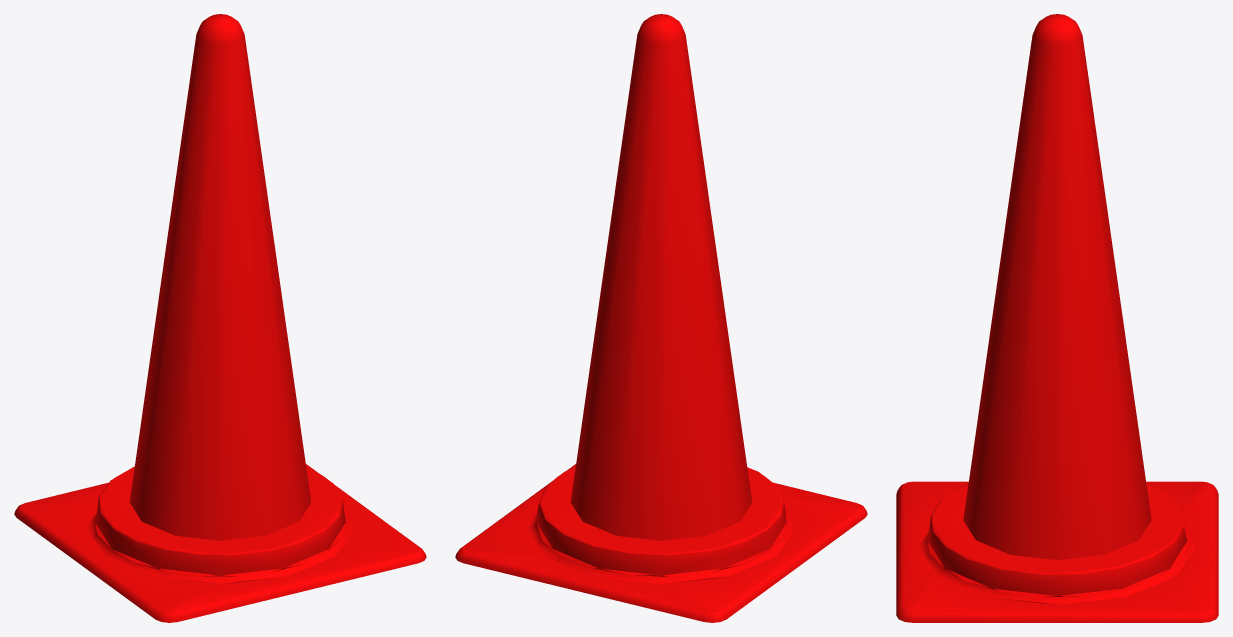
File: 3D_01カットコーン素材（単色）.fbx
3 views of the same model, side by side, from view 1: azimuth 30°, elevation 25°; view 2: azimuth 150°, elevation 25°; view 3: azimuth 270°, elevation 25° (orthographic). The views are drawn at different scales.
Parts seen in each view (by area): view 1: 3D ソリッド; view 2: 3D ソリッド; view 3: 3D ソリッド.
Part boxes in pixels (x1,y1,x2,y2): 3D ソリッド: [14, 14, 426, 622]; 3D ソリッド: [455, 14, 867, 622]; 3D ソリッド: [896, 14, 1218, 622].
Size of the model in its own units: 0.38 by 0.38 by 0.7.
